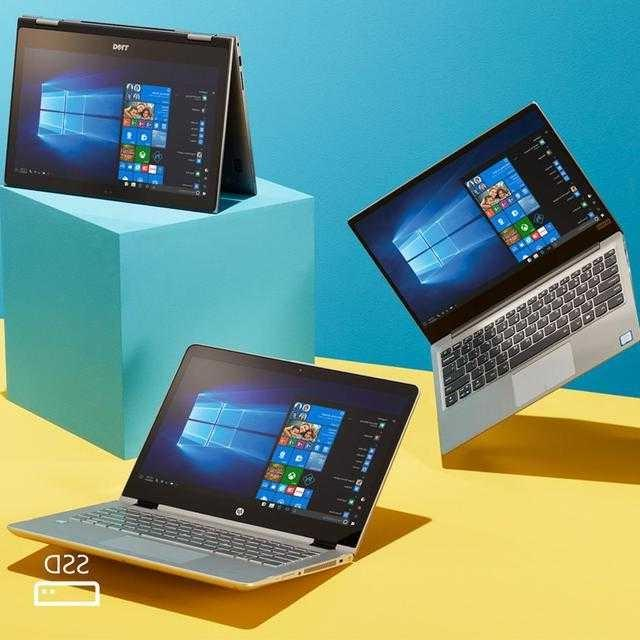laptop: (345, 88, 638, 492), (1, 342, 418, 603), (0, 4, 266, 244)
